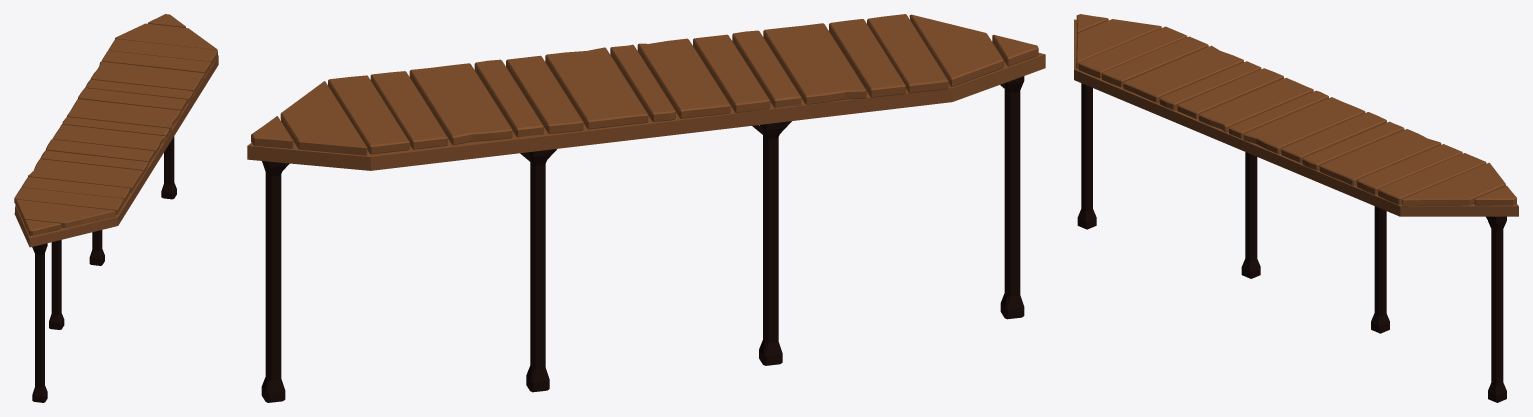
Rendered from ww_balcony_d.glb.
3 views of the same model, side by side, from view 1: azimuth 30°, elevation 25°; view 2: azimuth 150°, elevation 25°; view 3: azimuth 270°, elevation 25° (orthographic). The views are drawn at different scales.
Parts seen in each view (by area): view 1: Balcony_D; view 2: Balcony_D; view 3: Balcony_D.
Part boxes in pixels (bbox=[...]): Balcony_D: bbox=[14, 14, 218, 402]; Balcony_D: bbox=[247, 14, 1045, 402]; Balcony_D: bbox=[1074, 14, 1518, 402].
Bounding box in the file's own units: 6.87 × 3.51 × 6.9.
